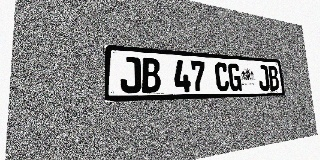4: (173, 60, 191, 92)
7: (190, 61, 207, 92)
B: (141, 57, 161, 93), (268, 66, 280, 90)
C: (214, 62, 230, 91)
G: (228, 63, 242, 91)
J: (120, 56, 141, 93), (257, 65, 270, 91)
